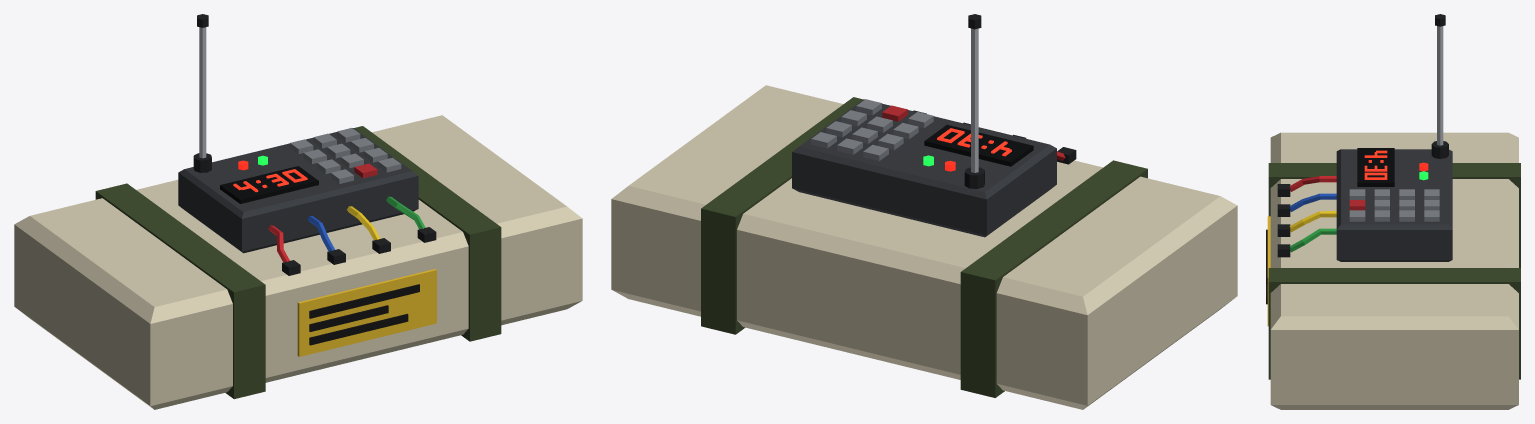
The picture shows the model from 3 angles, left to right: view 1: azimuth 30°, elevation 25°; view 2: azimuth 150°, elevation 25°; view 3: azimuth 270°, elevation 25°; orthographic projection. The views are drawn at different scales.
Visible parts, largest first — view 1: C4_Brick, C4_Detonator, C4_Wires; view 2: C4_Brick, C4_Detonator; view 3: C4_Brick, C4_Detonator, C4_Wires, C4_Display.
Part boxes in pixels (left/top/right/bottom): C4_Brick: left=14, top=115, right=582, bottom=409; C4_Detonator: left=178, top=14, right=418, bottom=253; C4_Wires: left=268, top=196, right=436, bottom=275; C4_Brick: left=611, top=85, right=1237, bottom=409; C4_Detonator: left=792, top=14, right=1056, bottom=237; C4_Brick: left=1266, top=132, right=1520, bottom=409; C4_Detonator: left=1336, top=14, right=1452, bottom=261; C4_Wires: left=1277, top=176, right=1336, bottom=257; C4_Display: left=1364, top=150, right=1387, bottom=179.
Bounding box in the file's own units: 0.22 × 0.145 × 0.1232.
